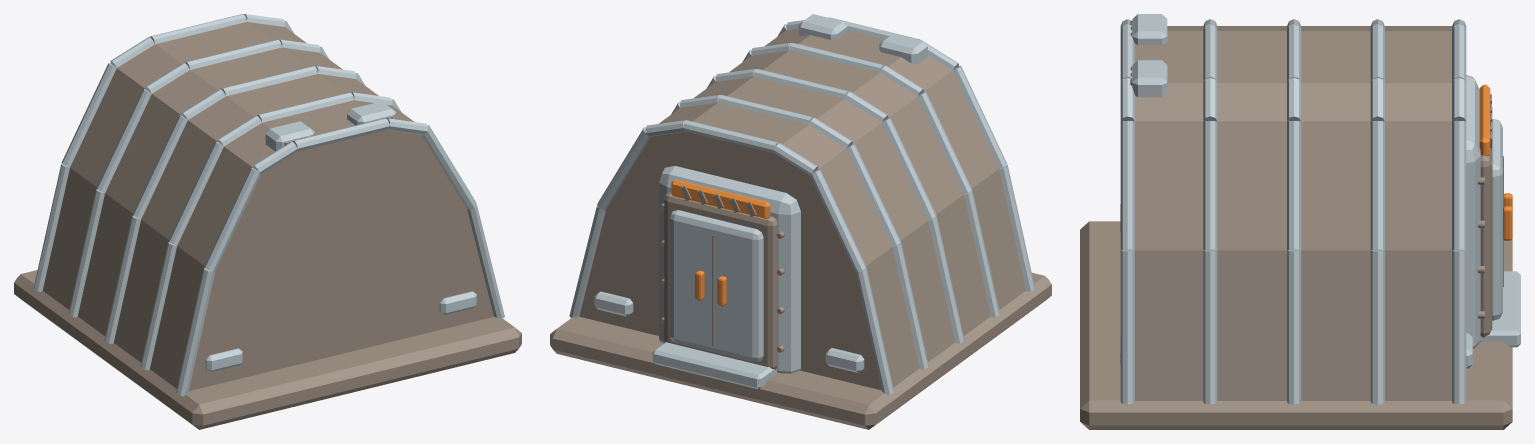
The model's file is facility_shelter.glb.
The picture shows the model from 3 angles, left to right: view 1: azimuth 30°, elevation 25°; view 2: azimuth 150°, elevation 25°; view 3: azimuth 270°, elevation 25°; orthographic projection. The views are drawn at different scales.
Visible parts, largest first — view 1: facility_shelter; view 2: facility_shelter; view 3: facility_shelter.
Part boxes in pixels (bbox=[...]): facility_shelter: bbox=[14, 14, 521, 429]; facility_shelter: bbox=[550, 14, 1051, 429]; facility_shelter: bbox=[1080, 14, 1520, 429].
Bounding box in the file's own units: 3.8 × 2.8 × 3.79.
